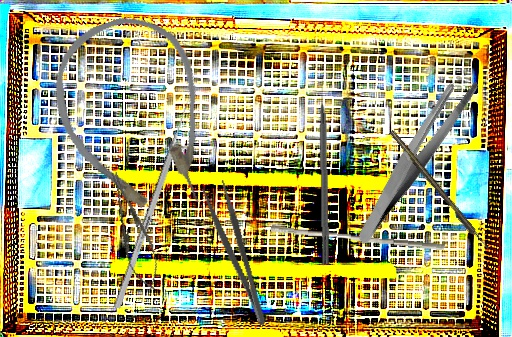Cannula: (34, 1, 235, 236)
Dressing Forceps: (320, 70, 510, 246), (200, 179, 270, 331)
Hook Surgical: (388, 128, 491, 253), (317, 75, 332, 265)
Needle Holder: (100, 167, 167, 295)
Pusher: (113, 92, 195, 310), (270, 224, 446, 251)
